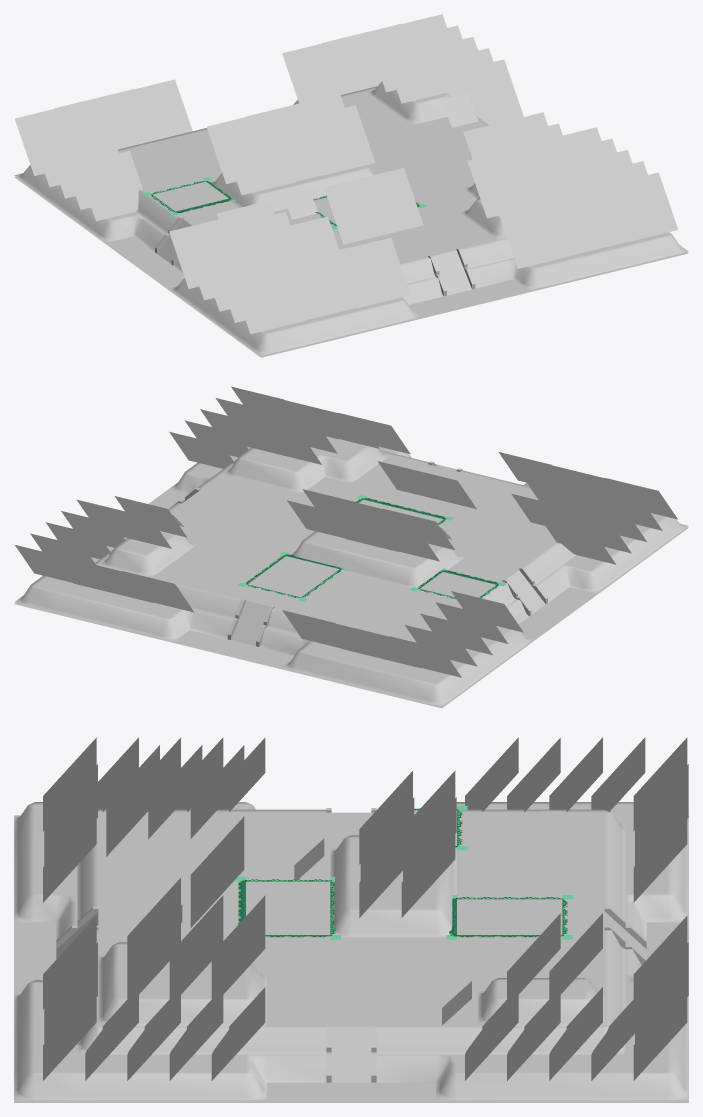
The model's file is Safari Zone_Areas - Mountain.dae.
The picture shows the model from 3 angles, top to bottom: view 1: azimuth 30°, elevation 25°; view 2: azimuth 150°, elevation 25°; view 3: azimuth 270°, elevation 25°; orthographic projection. The views are drawn at different scales.
Visible parts, largest first — view 1: m_saf11_00_00c; view 2: m_saf11_00_00c; view 3: m_saf11_00_00c.
Part boxes in pixels (x1,y1,x2,y2): m_saf11_00_00c: (14,14,688,357); m_saf11_00_00c: (14,386,688,708); m_saf11_00_00c: (14,737,688,1102).
Size of the model in its own units: 512 by 512 by 99.34.
